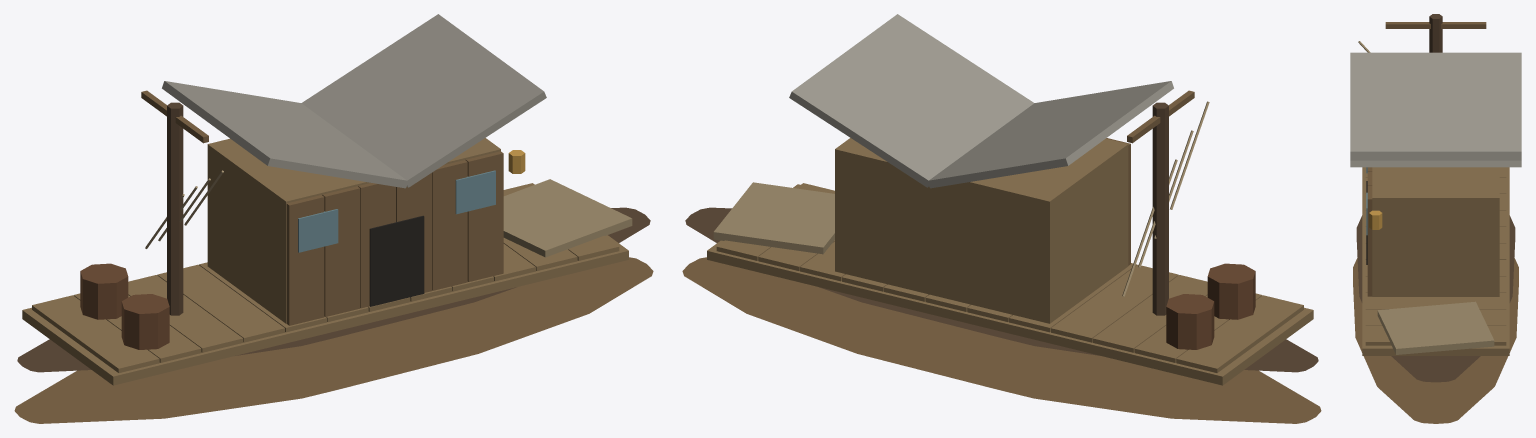
File: S_BoatHome.glb
3 renders of one model, left to right at view 1: azimuth 30°, elevation 25°; view 2: azimuth 150°, elevation 25°; view 3: azimuth 270°, elevation 25°, orthographic. The views are drawn at different scales.
Parts seen in each view (by area): view 1: S_BoatHome; view 2: S_BoatHome; view 3: S_BoatHome.
Part boxes in pixels (bbox=[...]): S_BoatHome: bbox=[14, 14, 653, 423]; S_BoatHome: bbox=[682, 14, 1321, 423]; S_BoatHome: bbox=[1350, 14, 1521, 423].
Size of the model in its own units: 8.75 by 3.65 by 2.56.
